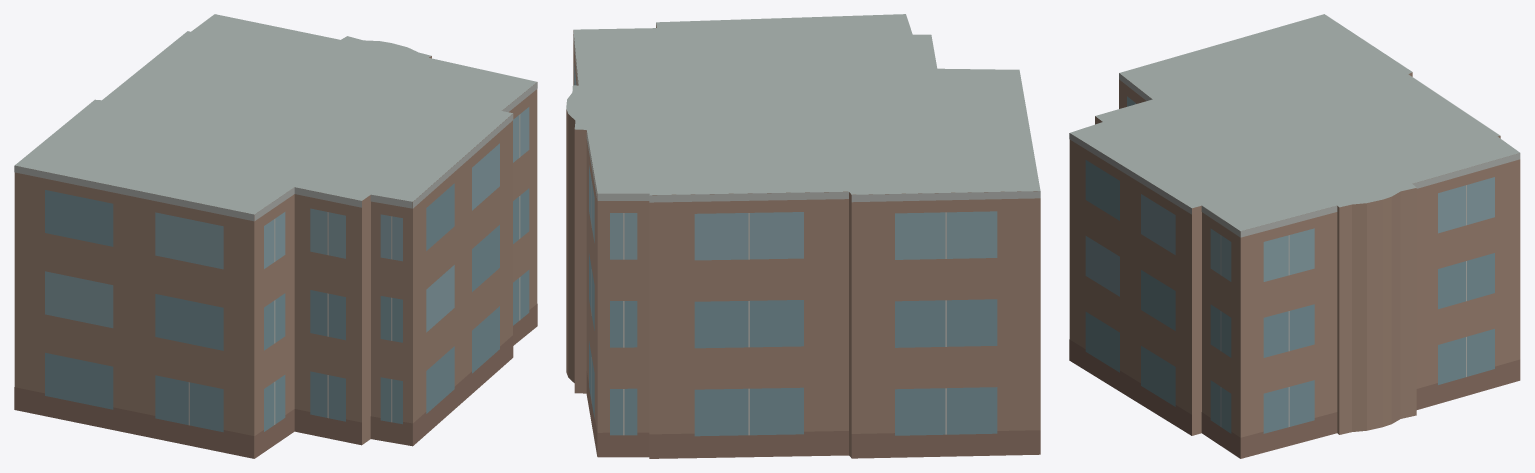
The model's file is survey-upis-32619284.glb.
The picture shows the model from 3 angles, left to right: view 1: azimuth 30°, elevation 25°; view 2: azimuth 150°, elevation 25°; view 3: azimuth 270°, elevation 25°; orthographic projection. The views are drawn at different scales.
Parts seen in each view (by area): view 1: survey-upis-32619284.tmp; view 2: survey-upis-32619284.tmp; view 3: survey-upis-32619284.tmp.
Part boxes in pixels (x1=…): survey-upis-32619284.tmp: x1=14, y1=14, x2=537, y2=458; survey-upis-32619284.tmp: x1=566, y1=14, x2=1040, y2=458; survey-upis-32619284.tmp: x1=1069, y1=14, x2=1520, y2=458.
Size of the model in its own units: 17.82 by 8.7 by 15.63.
